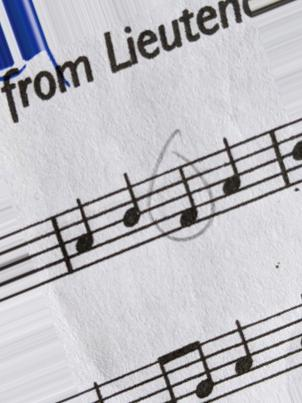note: (209, 134, 247, 211), (111, 171, 146, 252), (225, 315, 259, 391), (168, 160, 200, 237), (65, 196, 98, 268)
